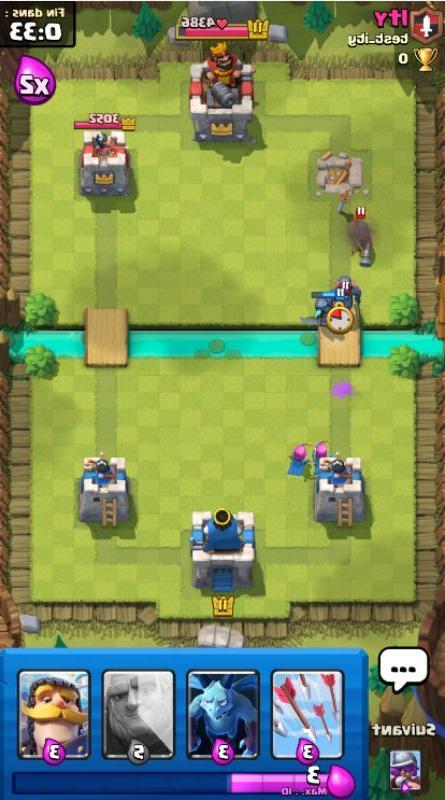enemy_musketeer: (344, 207, 380, 274)
player_archers: (285, 440, 309, 477), (309, 438, 330, 476)
